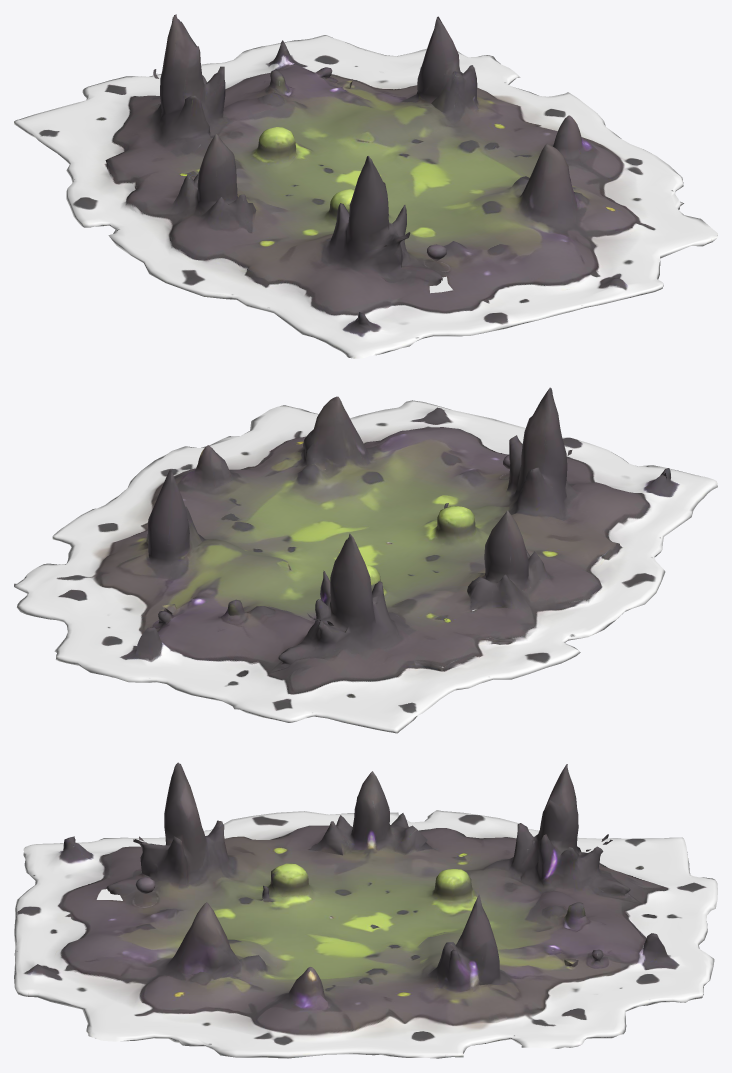
File: SM_Entorno_IslaCristal_01.fbx
3 renders of one model, top to bottom at view 1: azimuth 30°, elevation 25°; view 2: azimuth 150°, elevation 25°; view 3: azimuth 270°, elevation 25°, orthographic. The views are drawn at different scales.
Visible parts, largest first — view 1: SM_Entorno_IslaCristal_01; view 2: SM_Entorno_IslaCristal_01; view 3: SM_Entorno_IslaCristal_01.
Boxes of the visible parts, box(x1,y1,x2,y2) form: SM_Entorno_IslaCristal_01: box(14, 14, 717, 358); SM_Entorno_IslaCristal_01: box(14, 387, 717, 733); SM_Entorno_IslaCristal_01: box(14, 762, 717, 1058).
Bounding box in the file's own units: 0.8223 × 0.2062 × 0.9967.
Materials: 1 (1 with a texture image).
